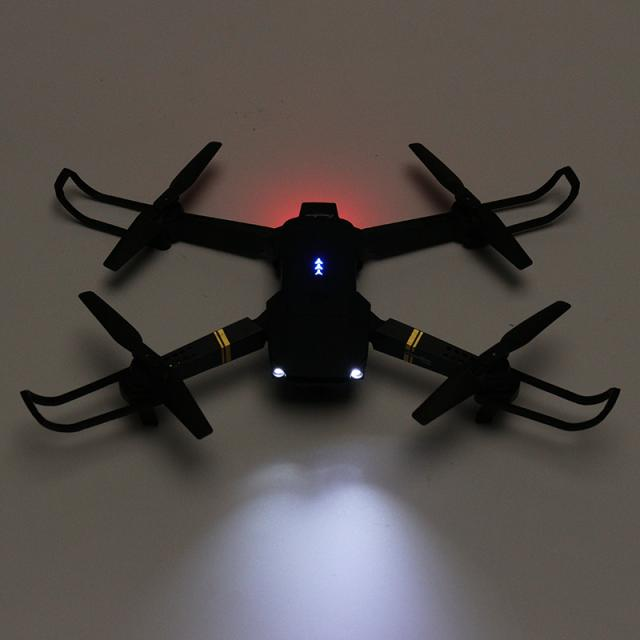drone: (13, 137, 640, 448)
